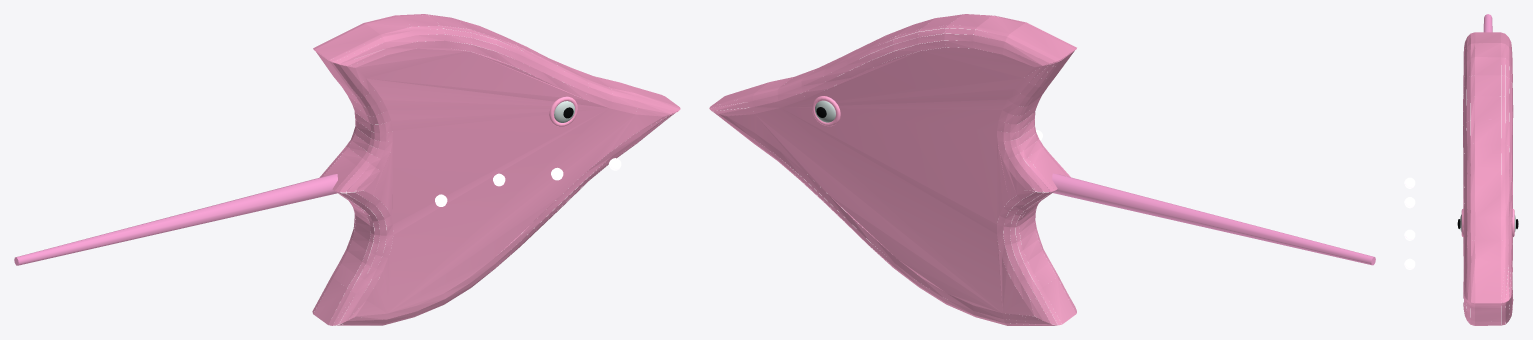
The model's file is coral-ray.glb.
The picture shows the model from 3 angles, left to right: view 1: azimuth 30°, elevation 25°; view 2: azimuth 150°, elevation 25°; view 3: azimuth 270°, elevation 25°; orthographic projection. The views are drawn at different scales.
Visible parts, largest first — view 1: body, tail_fin; view 2: body, tail_fin; view 3: body, photophore (×4), tail_fin.
Part boxes in pixels (x1=…): body: x1=312, y1=14, x2=680, y2=325; tail_fin: x1=14, y1=173, x2=367, y2=265; body: x1=709, y1=14, x2=1076, y2=325; tail_fin: x1=1021, y1=167, x2=1375, y2=265; body: x1=1463, y1=32, x2=1513, y2=325; photophore (×4): x1=1404, y1=177, x2=1415, y2=269; tail_fin: x1=1483, y1=14, x2=1492, y2=119.
Size of the model in its own units: 4.15 by 1.76 by 0.7002.
